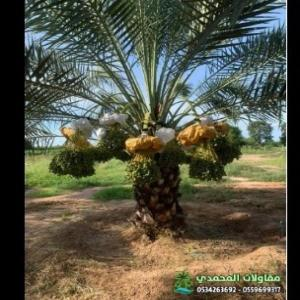palm tree: (24, 0, 286, 241)
